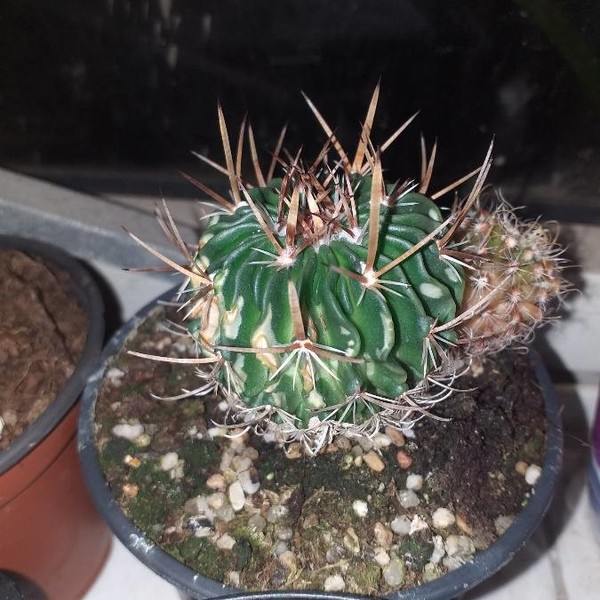obstacle: (94, 69, 574, 596)
